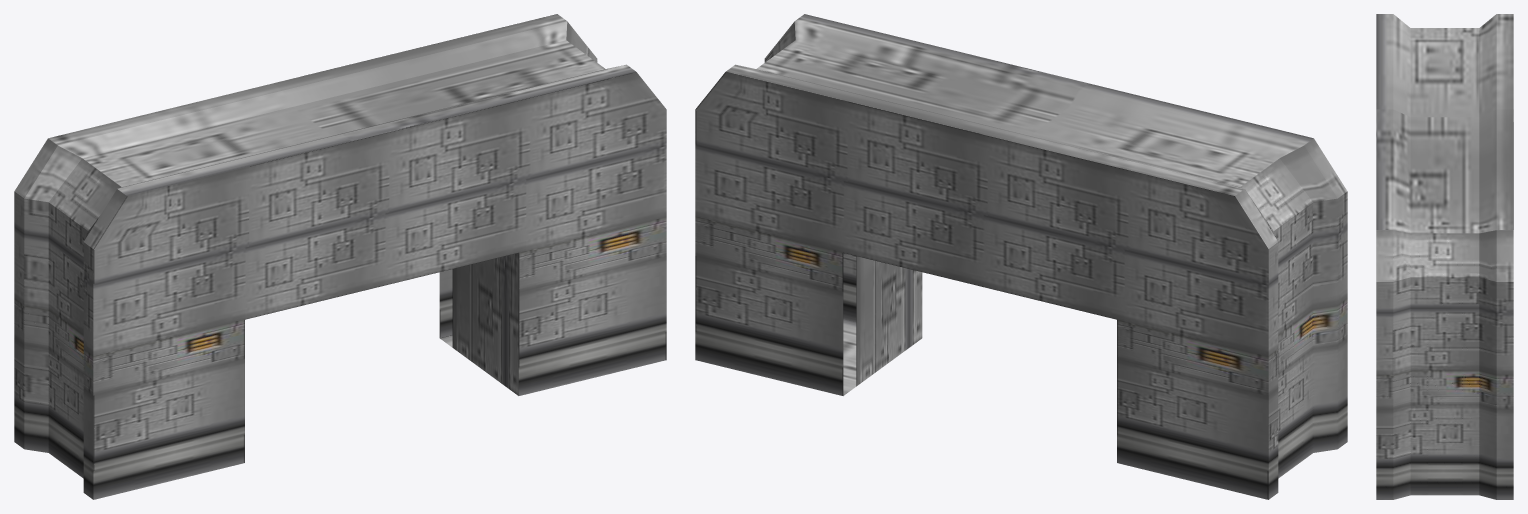
Rendered from pinwheel.fbx.
The picture shows the model from 3 angles, left to right: view 1: azimuth 30°, elevation 25°; view 2: azimuth 150°, elevation 25°; view 3: azimuth 270°, elevation 25°; orthographic projection. The views are drawn at different scales.
Parts seen in each view (by area): view 1: Cube.001; view 2: Cube.001; view 3: Cube.001.
Boxes of the visible parts, x1=… form: Cube.001: x1=14, y1=14, x2=666, y2=499; Cube.001: x1=695, y1=14, x2=1347, y2=499; Cube.001: x1=1376, y1=14, x2=1513, y2=499.
Size of the model in its own units: 419 by 206 by 100.
Materials: 4 (4 with a texture image).
